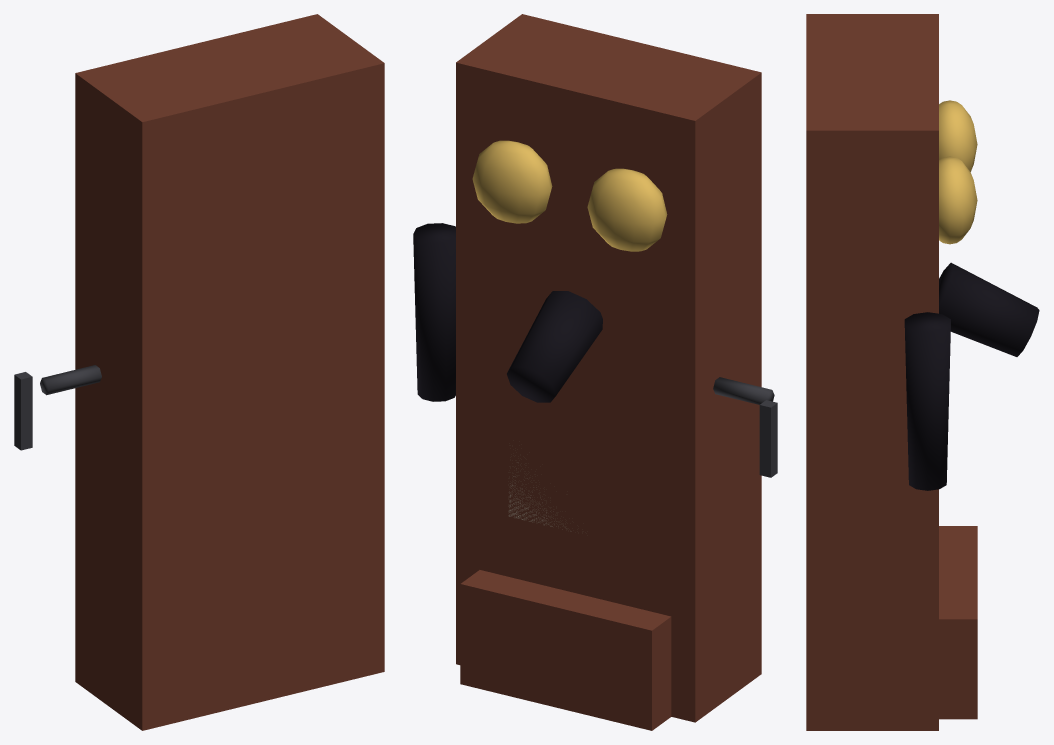
The model's file is SM_PRP_TelefoneParede.fbx.
The picture shows the model from 3 angles, left to right: view 1: azimuth 30°, elevation 25°; view 2: azimuth 150°, elevation 25°; view 3: azimuth 270°, elevation 25°; orthographic projection.
Visible parts, largest first — view 1: SM_PRP_TelefoneParede; view 2: SM_PRP_TelefoneParede; view 3: SM_PRP_TelefoneParede.
Part boxes in pixels (<box>): SM_PRP_TelefoneParede: <box>14,14,384,730</box>; SM_PRP_TelefoneParede: <box>413,14,777,730</box>; SM_PRP_TelefoneParede: <box>806,14,1039,730</box>.
Size of the model in its own units: 0.368 by 0.6 by 0.2112.
